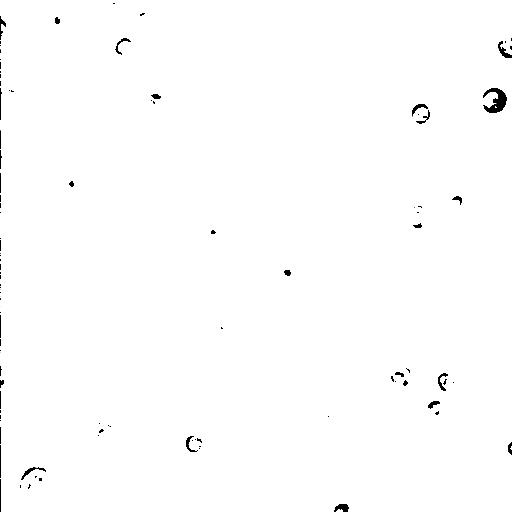micro-algae: (404, 318, 510, 427), (429, 410, 512, 511), (297, 229, 387, 322), (121, 25, 199, 107), (29, 0, 112, 60), (467, 121, 511, 182), (354, 471, 405, 512), (404, 89, 445, 132), (374, 5, 411, 50), (267, 120, 305, 159), (401, 201, 435, 235), (18, 467, 51, 501), (195, 219, 229, 252), (129, 3, 162, 35), (266, 253, 300, 284), (385, 364, 415, 393), (367, 183, 395, 214), (56, 165, 83, 196), (481, 85, 508, 115), (119, 335, 145, 366), (491, 478, 512, 511), (91, 423, 117, 449), (158, 222, 181, 251), (1, 87, 23, 115), (45, 7, 65, 32), (411, 103, 430, 125), (437, 371, 456, 392), (113, 37, 135, 55), (496, 33, 511, 59), (27, 0, 61, 11), (185, 435, 204, 453), (425, 398, 441, 419), (1, 366, 12, 391), (447, 194, 463, 210), (329, 501, 349, 511), (1, 17, 10, 39), (506, 437, 512, 455), (101, 0, 120, 5)
